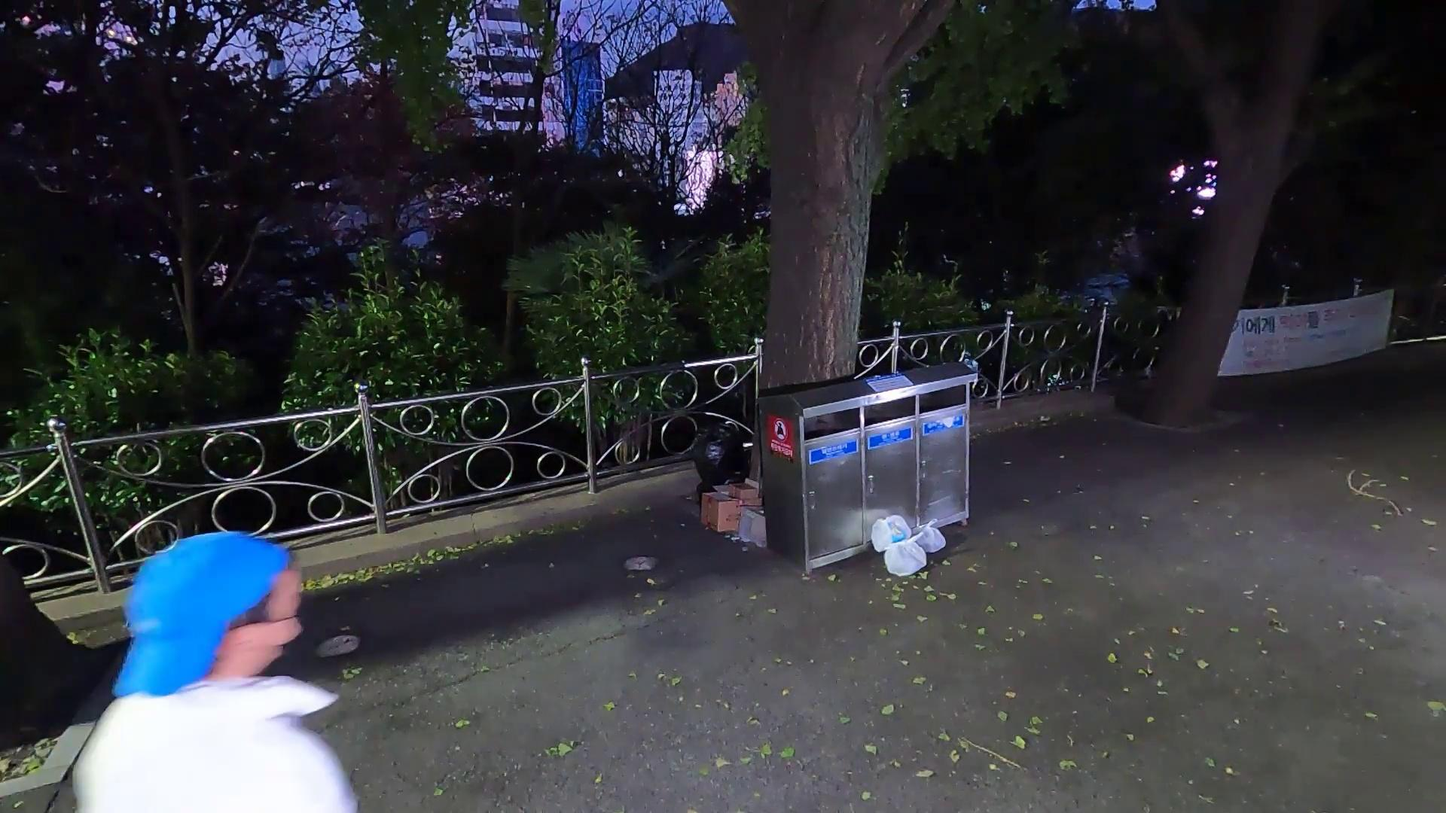person: (50, 518, 371, 813)
trash: (700, 418, 755, 528), (702, 486, 765, 534), (882, 536, 928, 574), (903, 520, 949, 556), (874, 513, 913, 551), (740, 504, 767, 546), (724, 470, 759, 499)
